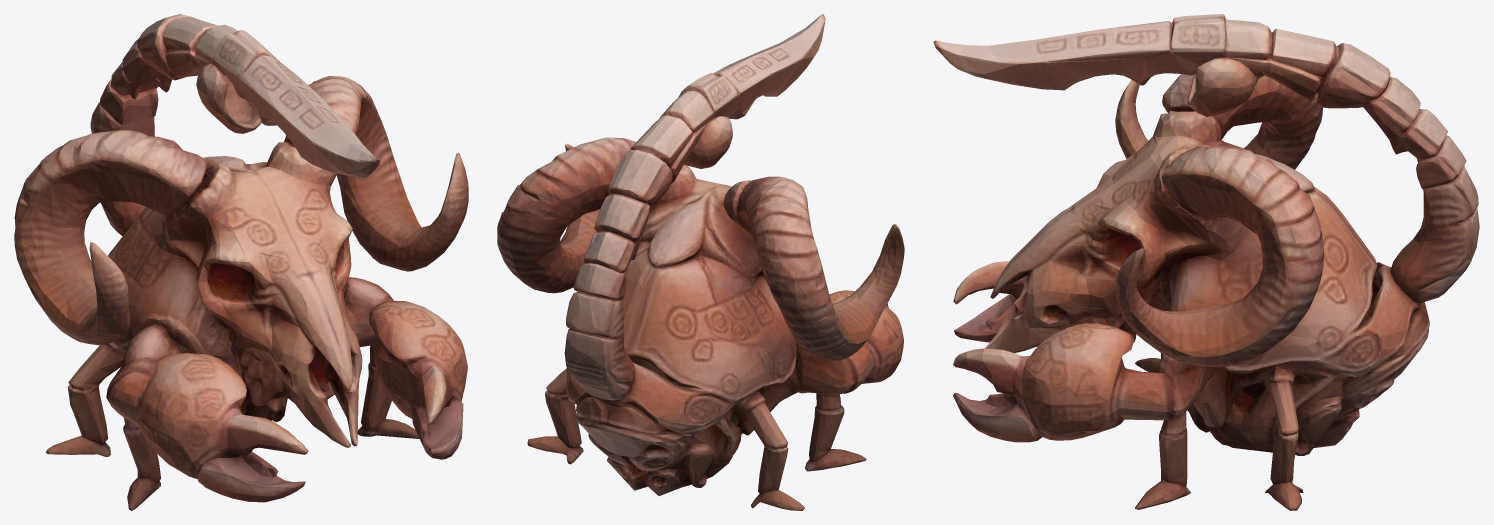
The model's file is duneScorpionKnight.glb.
The picture shows the model from 3 angles, left to right: view 1: azimuth 30°, elevation 25°; view 2: azimuth 150°, elevation 25°; view 3: azimuth 270°, elevation 25°; orthographic projection. The views are drawn at different scales.
Parts seen in each view (by area): view 1: world; view 2: world; view 3: world.
Part boxes in pixels (x1,y1,x2,y2): world: (14,14,468,510); world: (497,14,904,510); world: (933,14,1479,510).
Size of the model in its own units: 0.8132 by 0.8582 by 1.
1 material, 1 textured.
